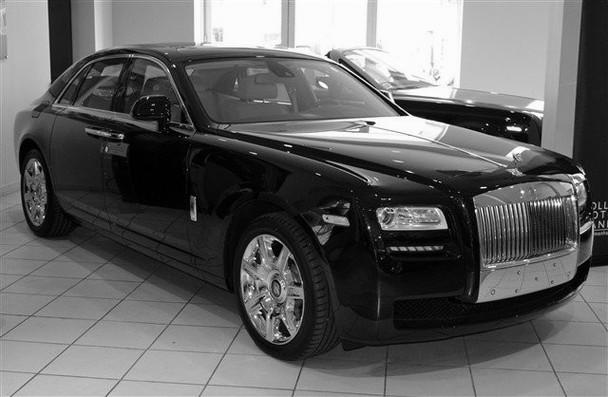car: (11, 47, 598, 365)
